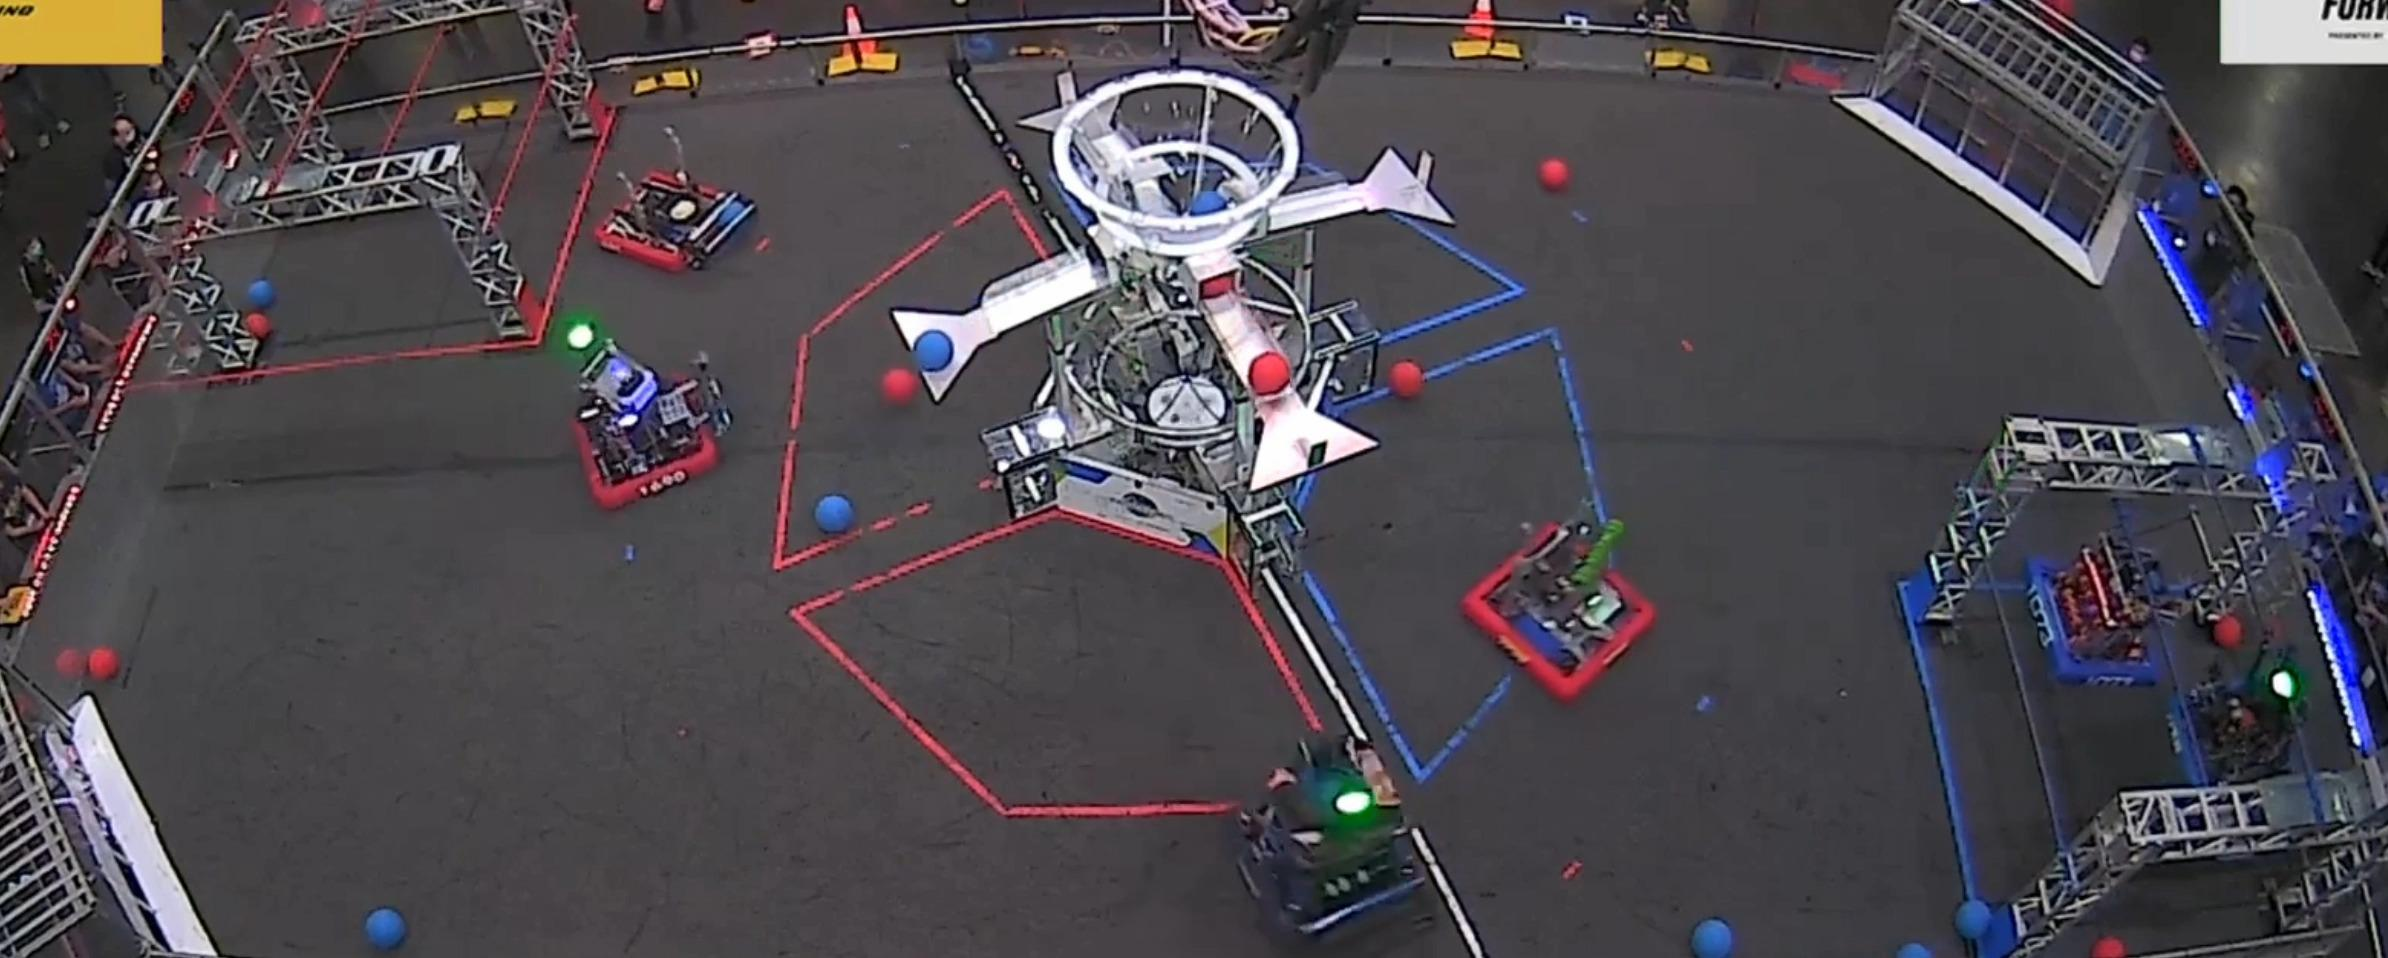Robots: (1235, 730, 1427, 944), (1461, 521, 1655, 702), (2027, 487, 2193, 687), (2182, 623, 2354, 794), (570, 334, 729, 509), (597, 120, 760, 273)
